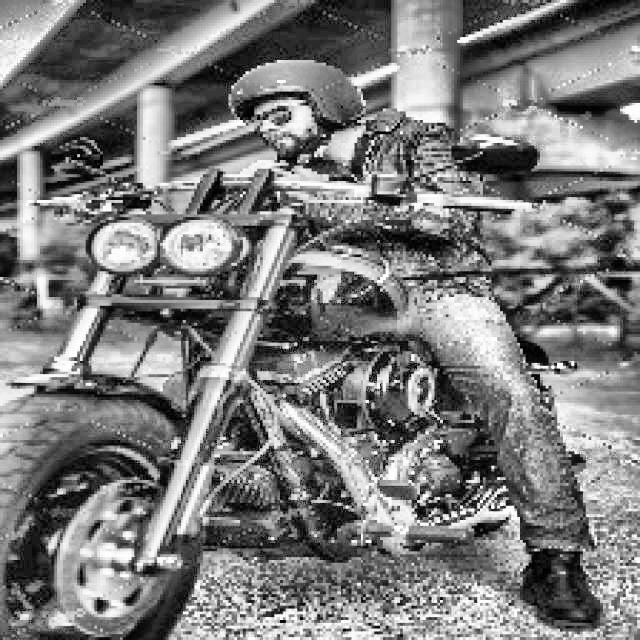motorcycle: (2, 126, 582, 640)
